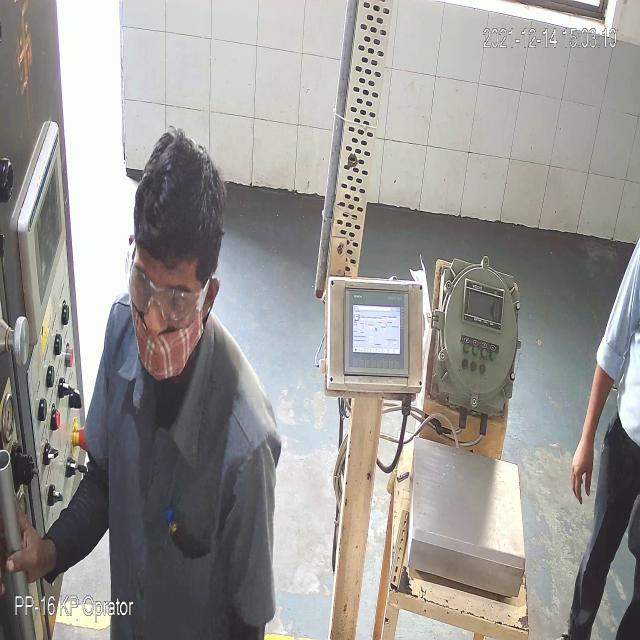glasses: (126, 270, 210, 336)
